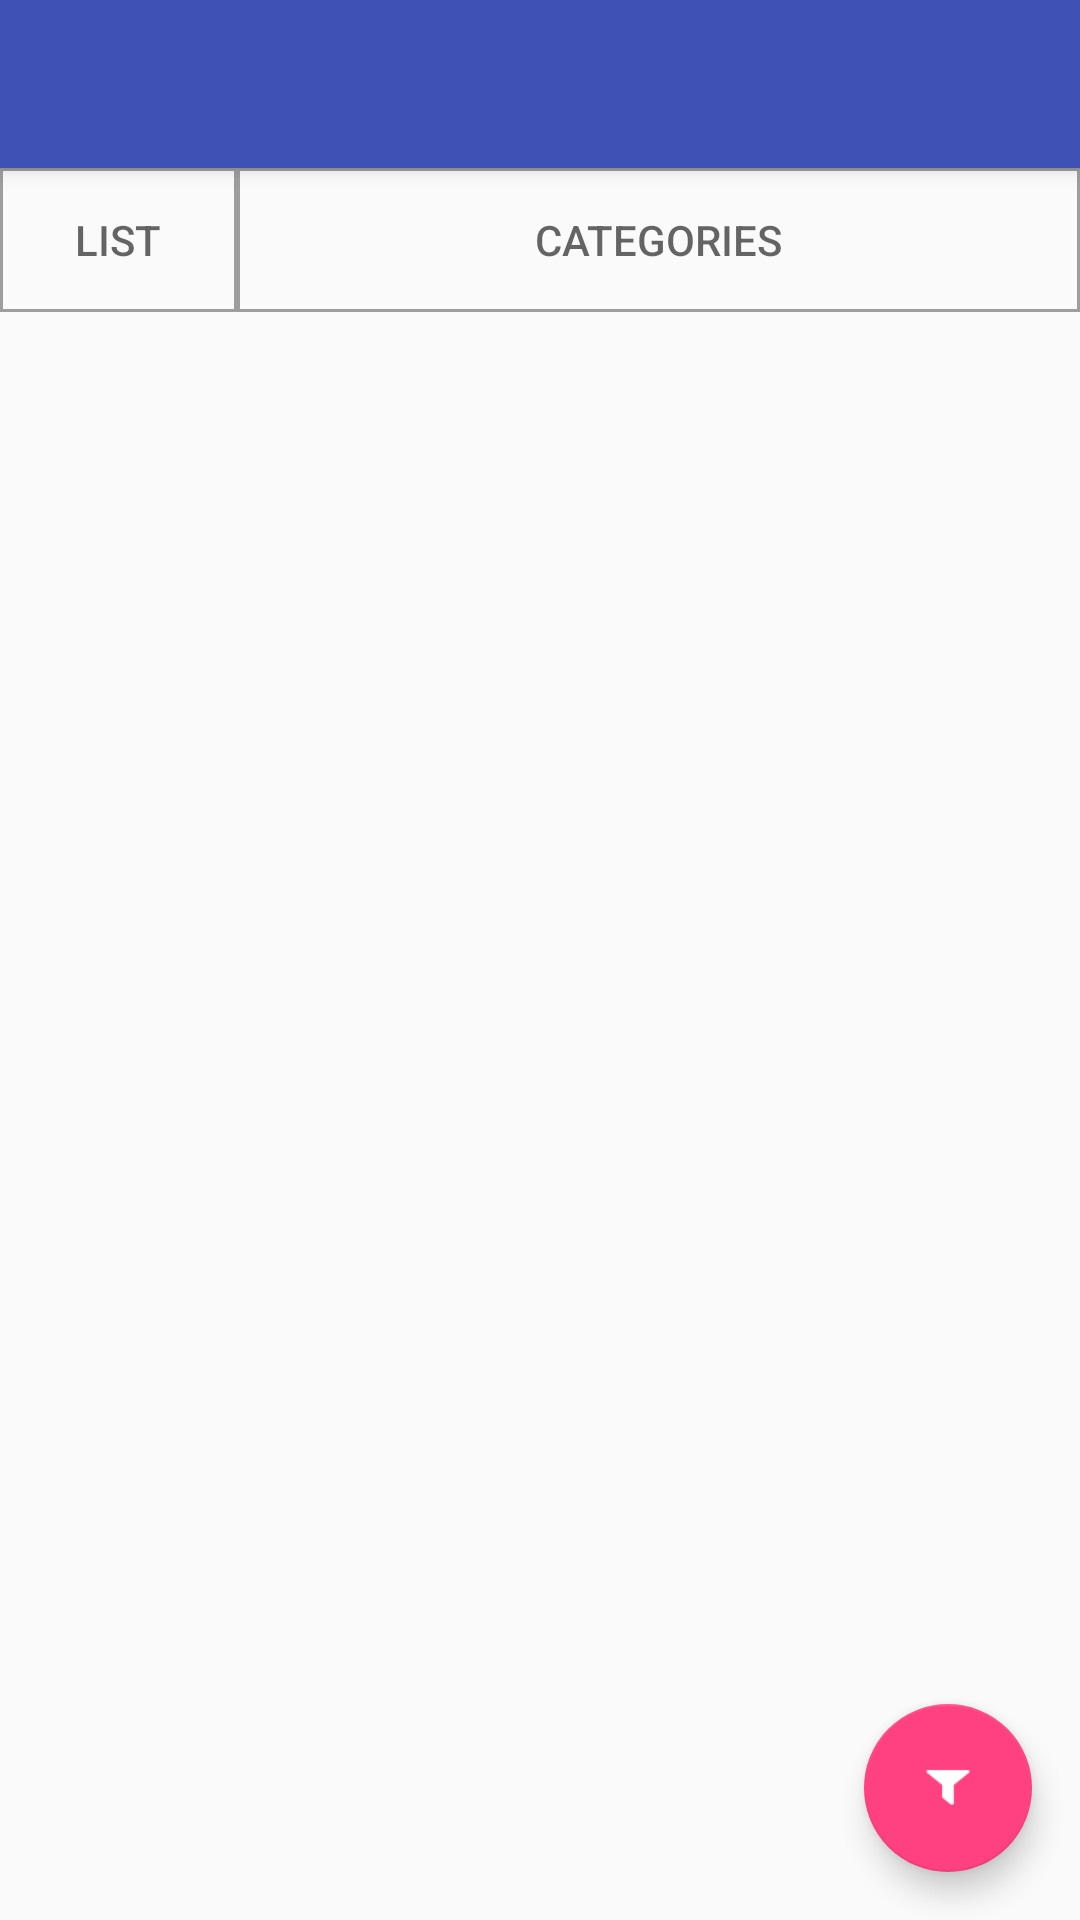

Screen size 1080*1920. Icon name, then its box in pixels as (x1,y1,x2,y2):
filter: (864,1704,1032,1872)
